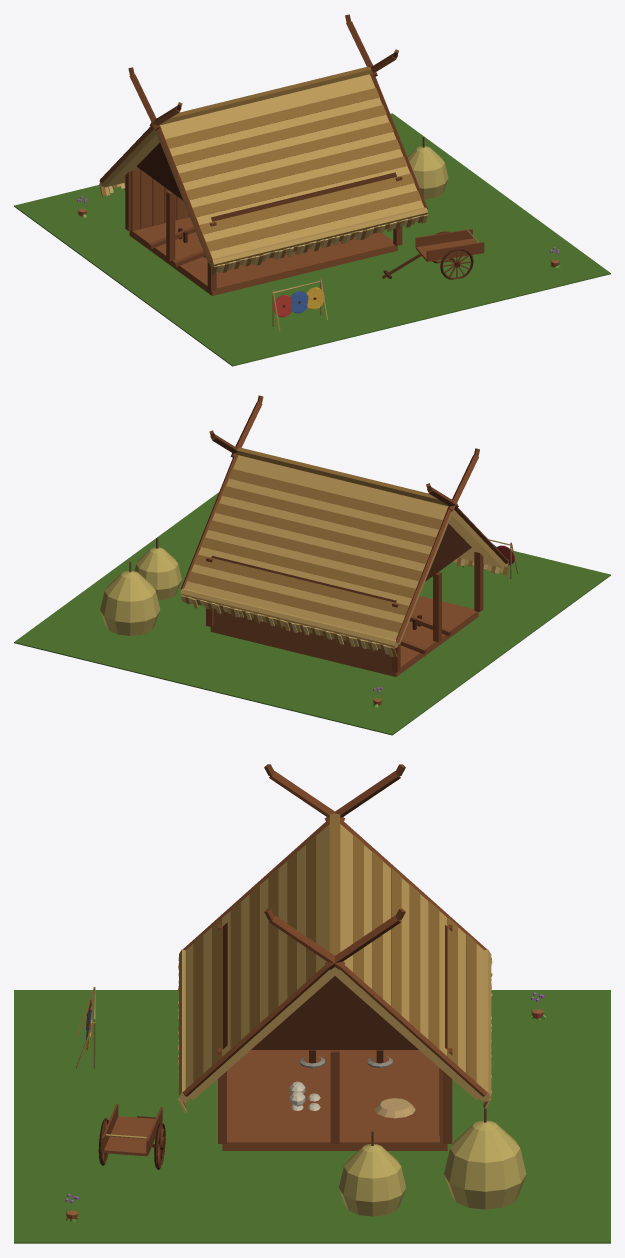
The model's file is factory_3.glb.
3 renders of one model, top to bottom at view 1: azimuth 30°, elevation 25°; view 2: azimuth 150°, elevation 25°; view 3: azimuth 270°, elevation 25°, orthographic. The views are drawn at different scales.
Parts seen in each view (by area): view 1: body; view 2: body; view 3: body.
Part boxes in pixels (x1,y1,x2,y2): body: (14, 14, 610, 366); body: (14, 395, 610, 735); body: (14, 764, 610, 1243).
Bounding box in the file's own units: 15.9 × 7.7 × 15.9.
